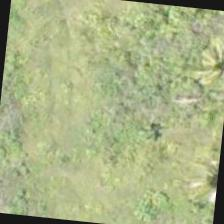Kelapa_Sawit: (158, 25, 223, 123)
